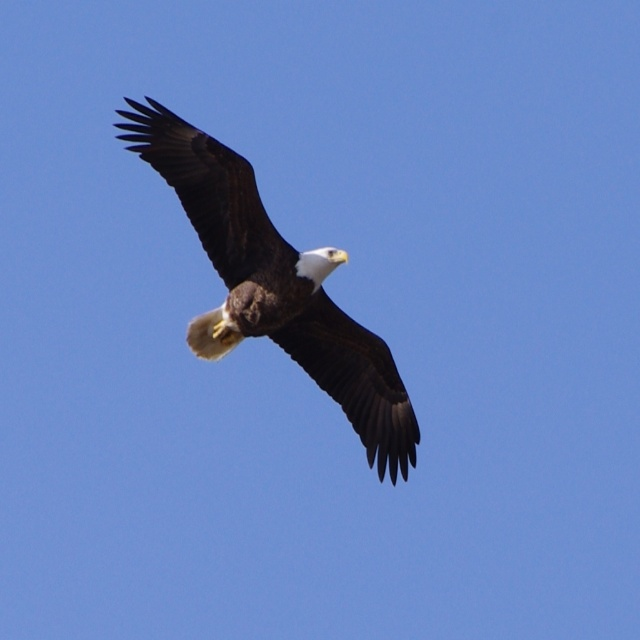Eagle: (115, 96, 421, 486)
